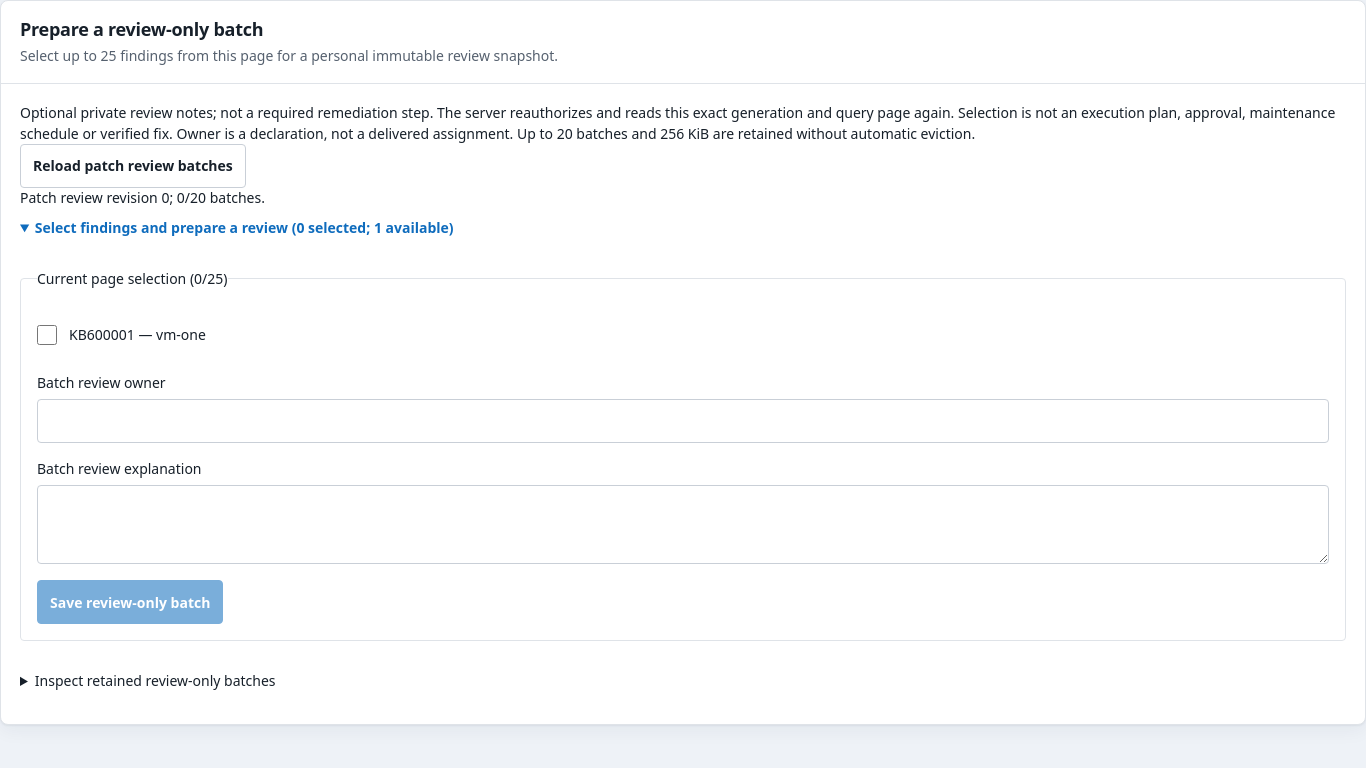
Test: Review-only patch batch › recovers ambiguous reply by explicit read without automatic POST retry
The image size is (1366, 768).
Expected: the text "Patch review revision 0; 0/20 batches." is shown, x1=20 y1=188 x2=265 y2=207
Click the checkbox labelled "KB600001 — vm-one" at (47, 335), box x1=37 y1=325 x2=57 y2=345
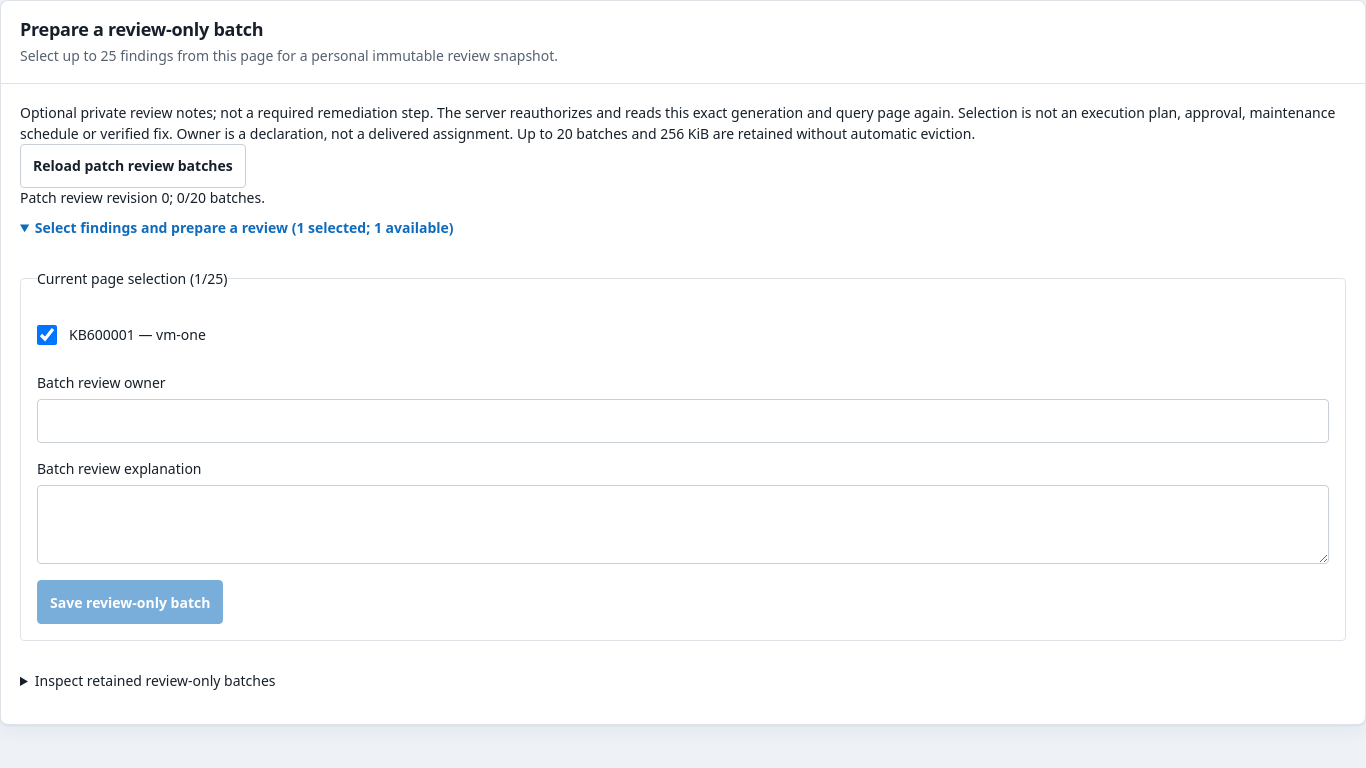
Type "Operations" into the field labelled "Batch review owner" at (683, 421), box x1=37 y1=399 x2=1329 y2=443
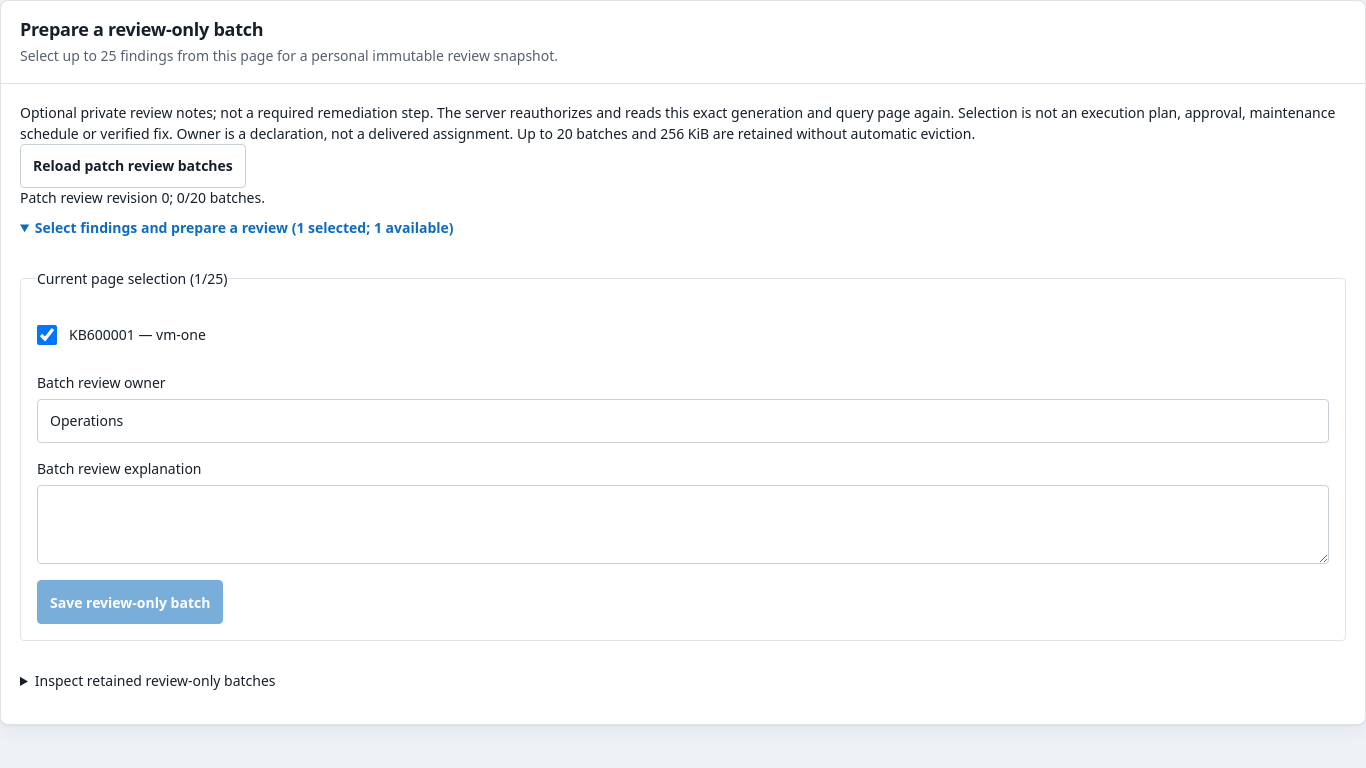
Type "Review missing updates" into the text box labelled "Batch review explanation" at (683, 525), box x1=37 y1=486 x2=1329 y2=564
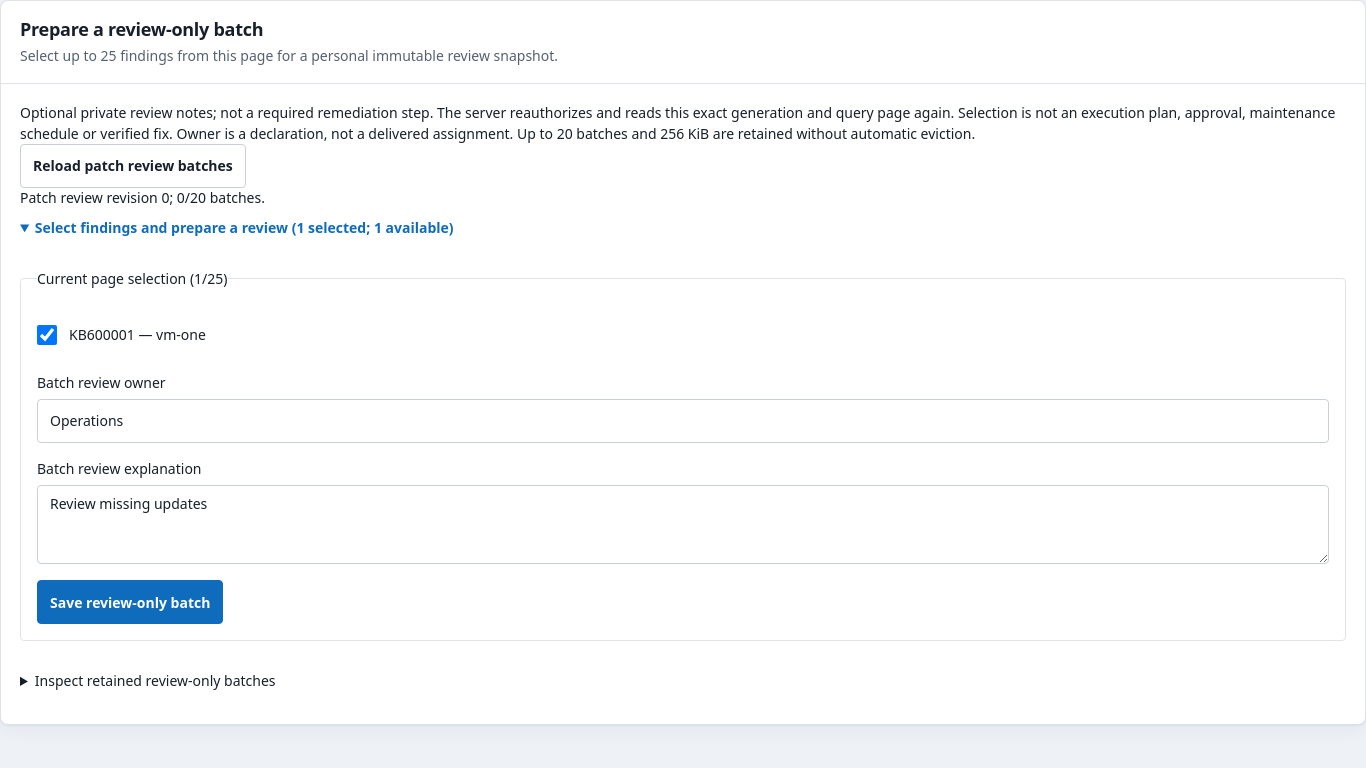
Click the button "Save review-only batch" at (130, 602), box x1=37 y1=580 x2=223 y2=624
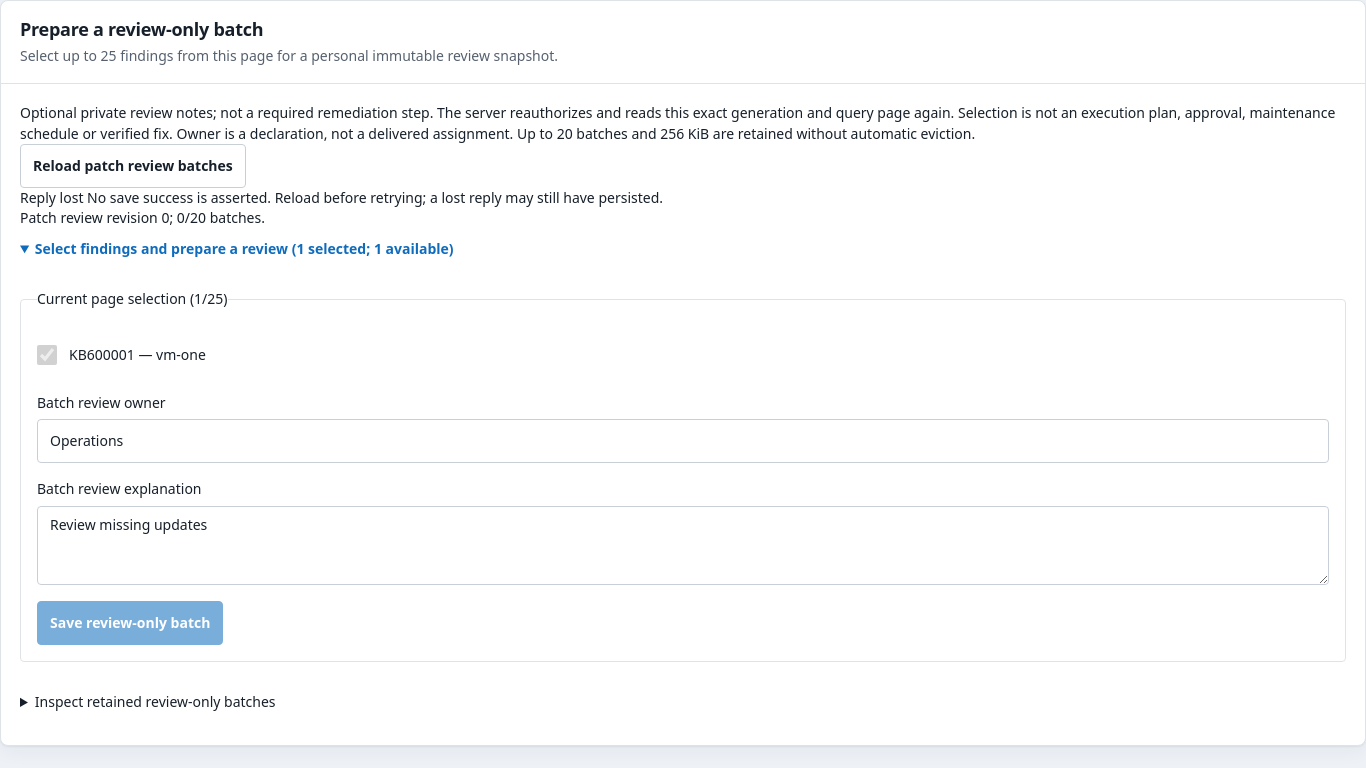
Expected: the button "Save review-only batch" is disabled, x1=37 y1=601 x2=223 y2=645
Expected: the message shows "lost reply may still have persisted", x1=84 y1=188 x2=663 y2=207
Click the button "Reload patch review batches" at (133, 166), box x1=20 y1=144 x2=246 y2=188
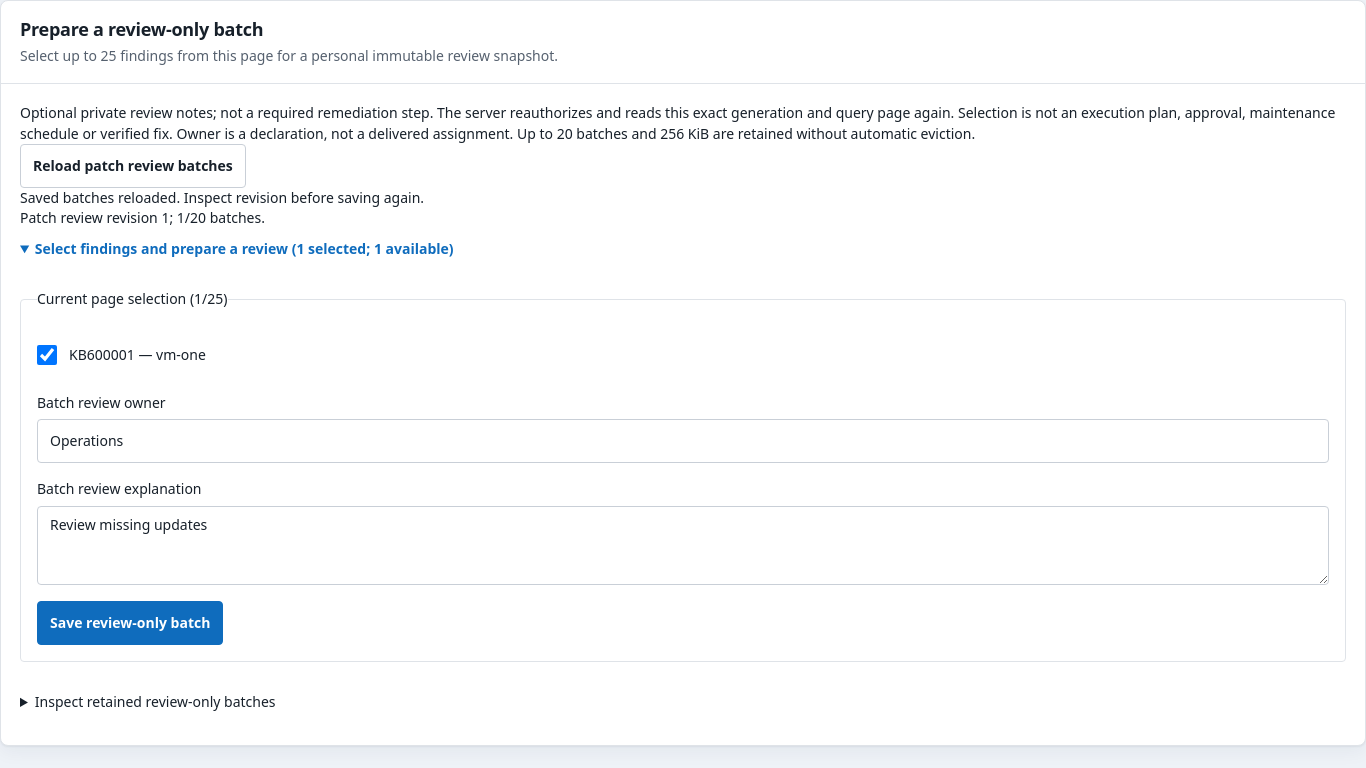
Expected: the text "Patch review revision 1; 1/20 batches." is shown, x1=20 y1=208 x2=265 y2=227
